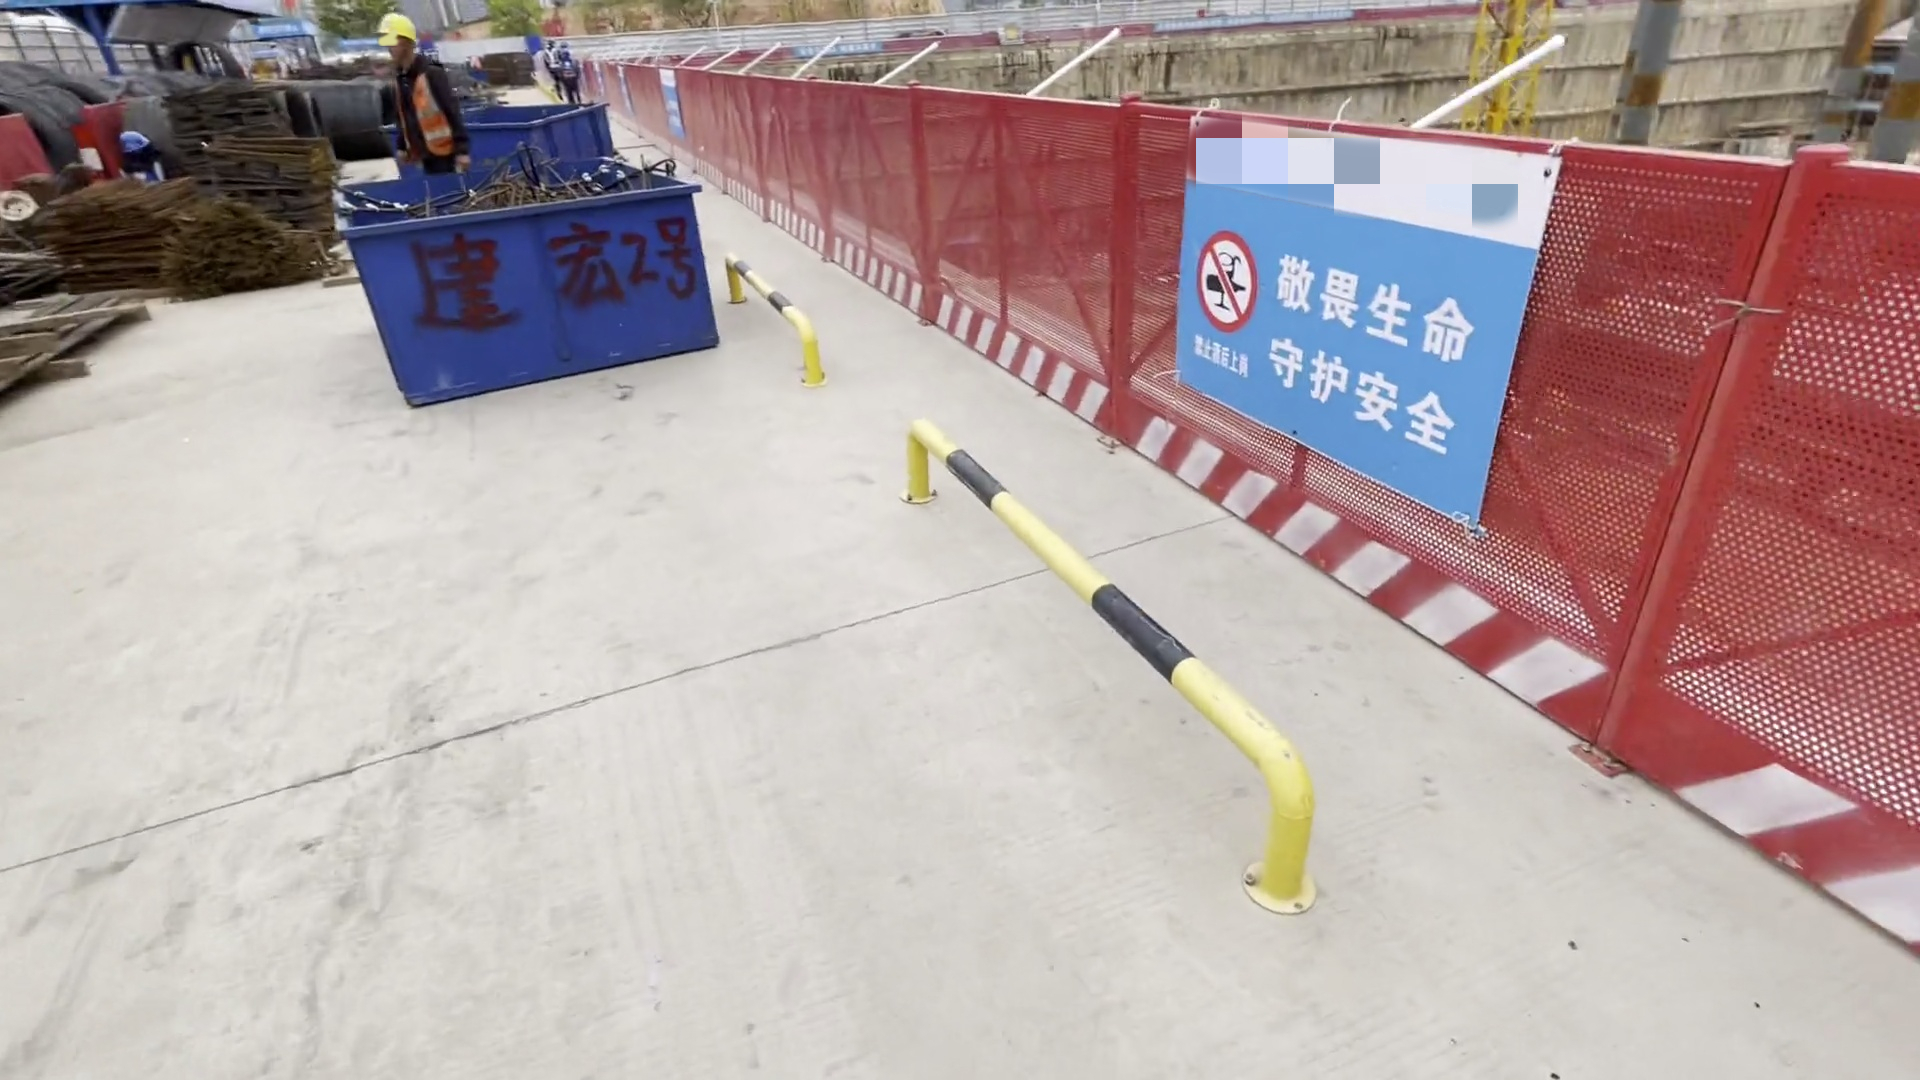fence: (1488, 168, 1920, 932), (597, 57, 1233, 487)
helmet: (381, 17, 422, 51)
hopper: (344, 173, 729, 392)
person: (360, 13, 466, 192), (555, 50, 582, 106), (541, 37, 566, 92)
slogan: (1170, 204, 1465, 471)
vest: (387, 68, 457, 161), (560, 62, 580, 85)
